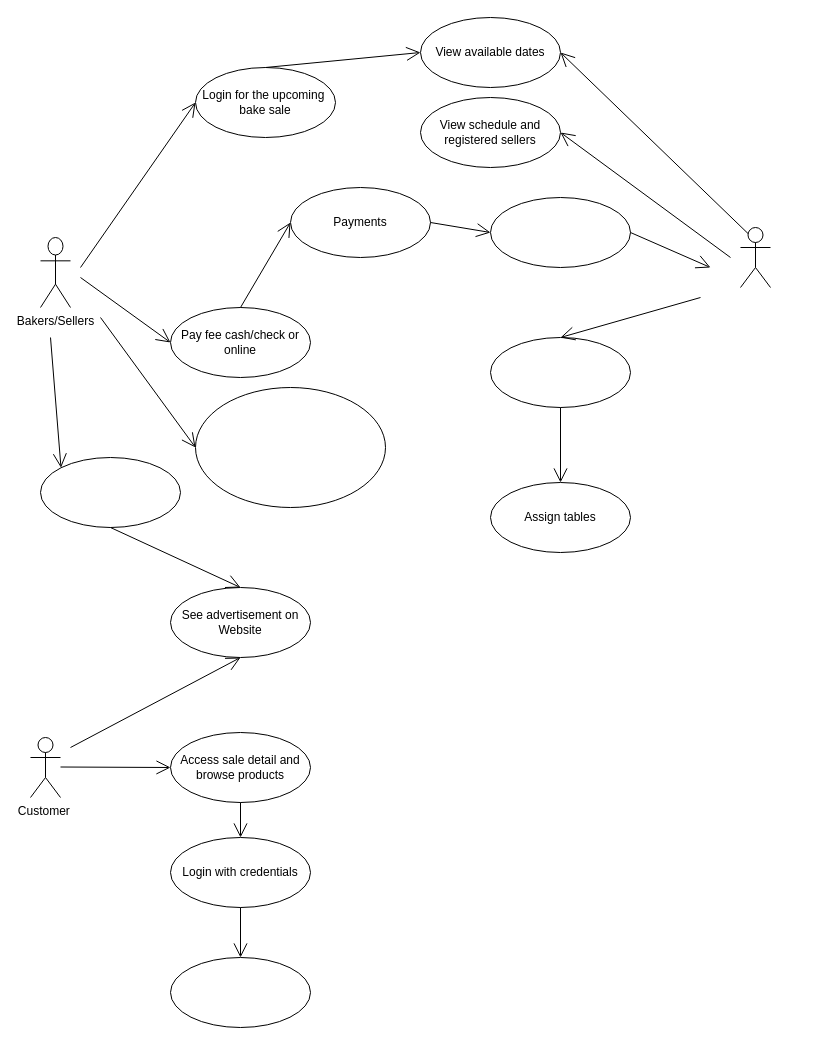
The diagram is 821 pixels wide and 1045 high, and some of its shapes have lost their labels. The shapes that lost their labels are listed below. From the top down, each one's centre as x and y in pixels, then its label:
the point at 560,232: Accept payments cash/check or online
the point at 755,257: Bake Sale Management user
the point at 560,372: Check Available tables
the point at 290,447: List of the items for the sale including description and photos
the point at 110,492: Create fliers and advertisement
the point at 240,992: Add order to cart
